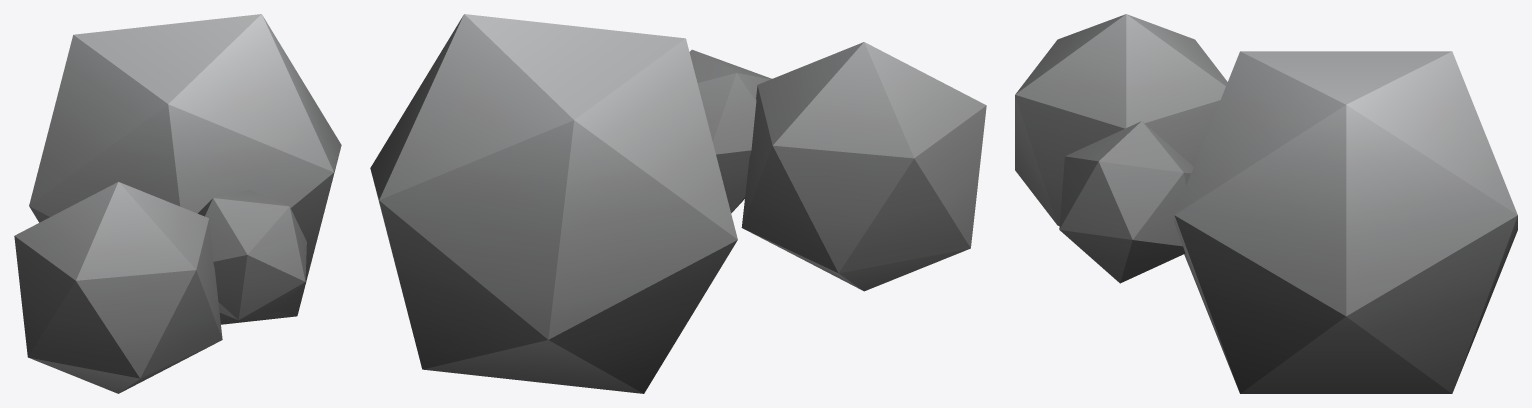
The model's file is W2_CLUTTER_2.fbx.
The picture shows the model from 3 angles, left to right: view 1: azimuth 30°, elevation 25°; view 2: azimuth 150°, elevation 25°; view 3: azimuth 270°, elevation 25°; orthographic projection. The views are drawn at different scales.
Parts seen in each view (by area): view 1: W2_CLUTTER_2; view 2: W2_CLUTTER_2; view 3: W2_CLUTTER_2.
Boxes of the visible parts, x1=… form: W2_CLUTTER_2: x1=14, y1=14, x2=341, y2=393; W2_CLUTTER_2: x1=370, y1=14, x2=986, y2=393; W2_CLUTTER_2: x1=1015, y1=14, x2=1517, y2=393.
Bounding box in the file's own units: 28.46 × 18.85 × 26.91.
